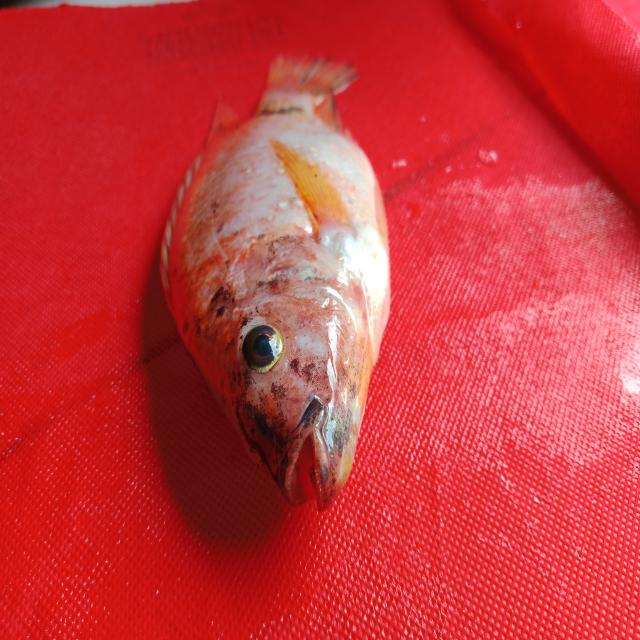ikan: (138, 9, 447, 525)
